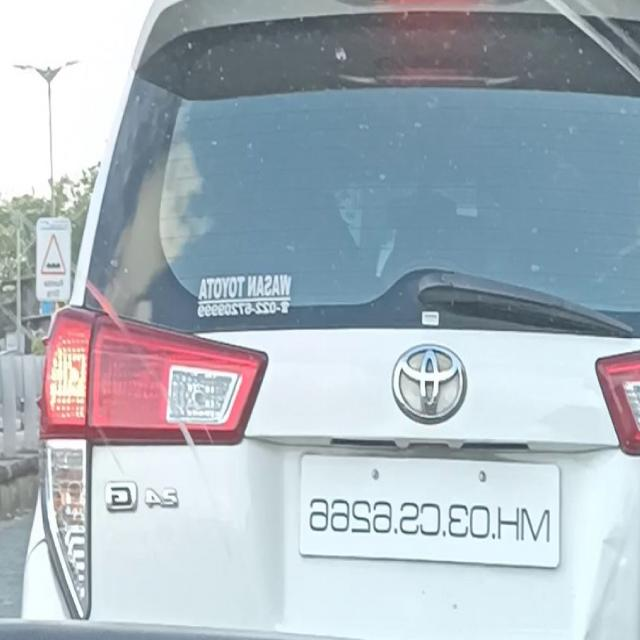license_plate: (296, 448, 567, 576)
